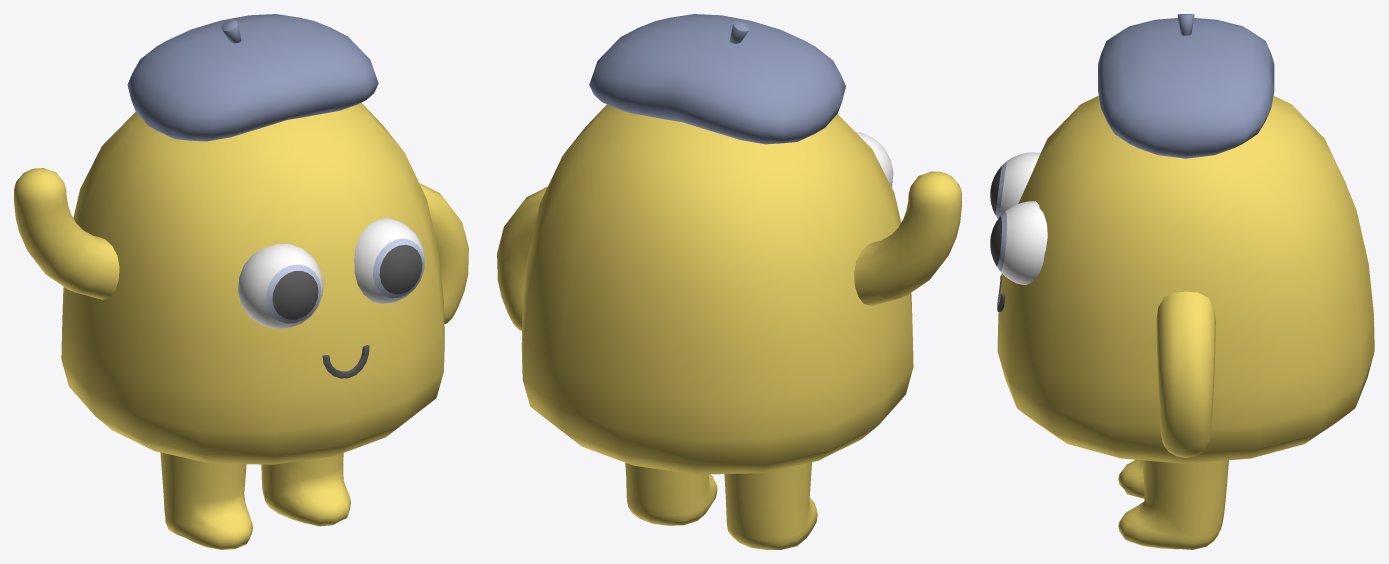
3 views of the same model, side by side, from view 1: azimuth 30°, elevation 25°; view 2: azimuth 150°, elevation 25°; view 3: azimuth 270°, elevation 25° (orthographic). The views are drawn at different scales.
Parts seen in each view (by area): view 1: pCube3, pCube4, orangeLegs, r arm, eyes-whiteMTL, eyes-blackMTL, l arm, eyes-blueMTL; view 2: pCube3, pCube4, orangeLegs, r arm, l arm, eyes-whiteMTL; view 3: pCube3, pCube4, l arm, orangeLegs, eyes-whiteMTL, eyes-blackMTL, eyes-blueMTL.
Boxes of the visible parts, x1,y1,x2,y2 form: pCube3: (61, 102, 444, 464); pCube4: (127, 14, 378, 141); orangeLegs: (160, 452, 350, 549); r arm: (14, 168, 119, 299); eyes-whiteMTL: (238, 218, 424, 328); eyes-blackMTL: (272, 244, 422, 319); l arm: (419, 183, 468, 324); eyes-blueMTL: (266, 238, 424, 323); pCube3: (521, 104, 913, 474); pCube4: (589, 14, 845, 144); orangeLegs: (625, 462, 817, 549); r arm: (854, 171, 961, 305); l arm: (497, 186, 547, 330); eyes-whiteMTL: (856, 132, 893, 186); pCube3: (997, 96, 1374, 463); pCube4: (1098, 18, 1274, 158); l arm: (1156, 291, 1215, 457); orangeLegs: (1118, 459, 1228, 549); eyes-whiteMTL: (999, 152, 1047, 285); eyes-blackMTL: (990, 166, 1001, 265); eyes-blueMTL: (995, 161, 1006, 271).
Bounding box in the file's own units: 0.0619 × 0.0659 × 0.0468.
